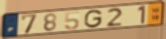1: (137, 5, 147, 25)
2: (106, 7, 125, 28)
5: (64, 10, 81, 30)
7: (20, 13, 39, 35)
8: (43, 13, 58, 32)
G: (83, 9, 104, 29)
